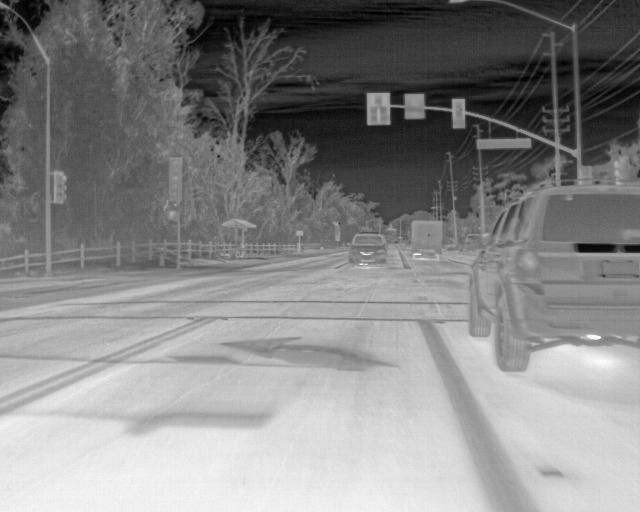car: (467, 186, 639, 372), (348, 233, 385, 265), (386, 228, 398, 242)
